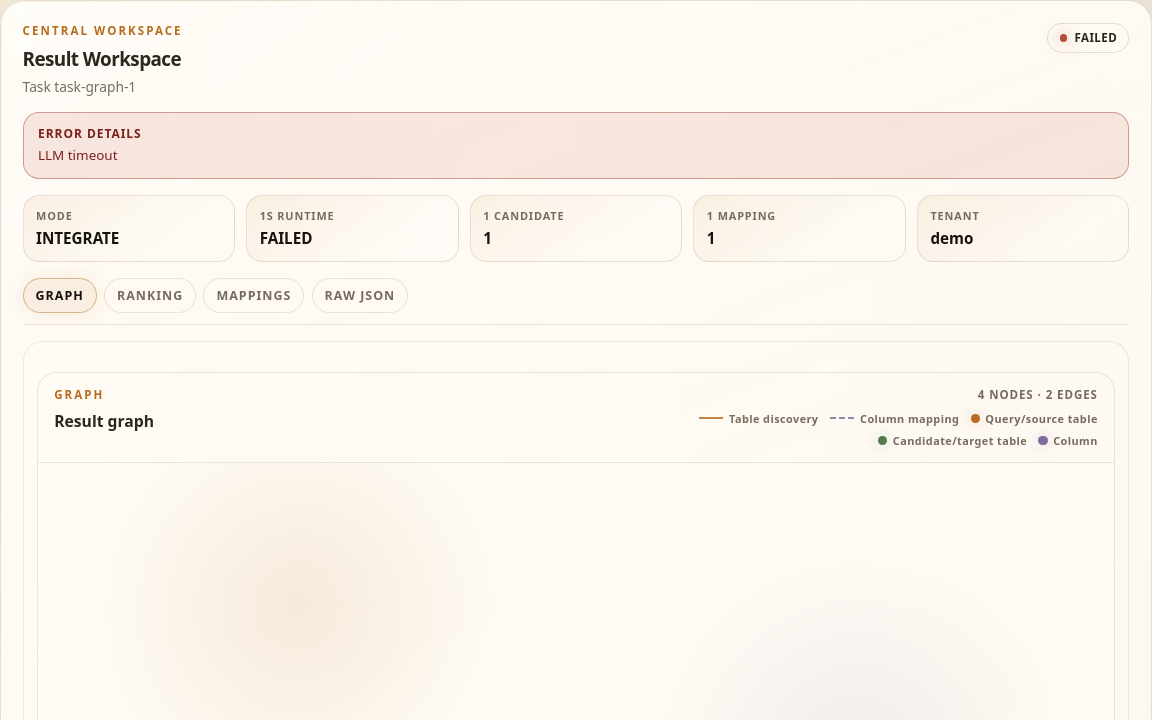
Scenario: ResultWorkspace › shows scenario badges and backend error details in results
Expected: the message shows "LLM timeout", [38,146,118,164]
What coordinates should you click on to do the following:
click the tab "Mappings"
I would click on:
 (254, 295)
Its box is [204,278,304,313].
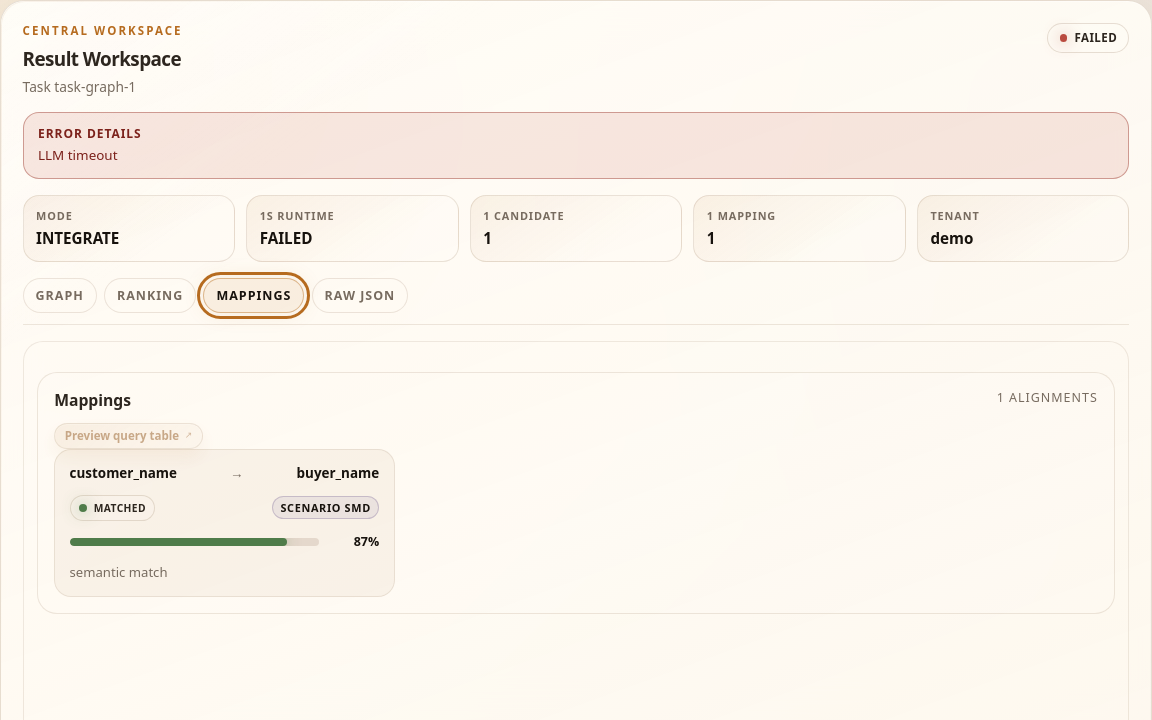
Result: the text "Scenario SMD" is shown at [272,496,379,519]
Result: the text "customer_name" is shown at [70,464,177,482]
Result: the text "buyer_name" is shown at [296,464,379,482]
